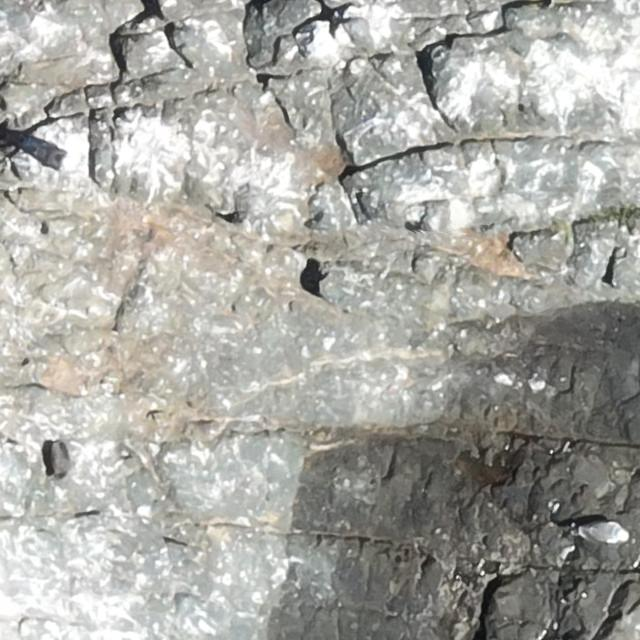umineko: (36, 141, 86, 176), (579, 521, 623, 541)
